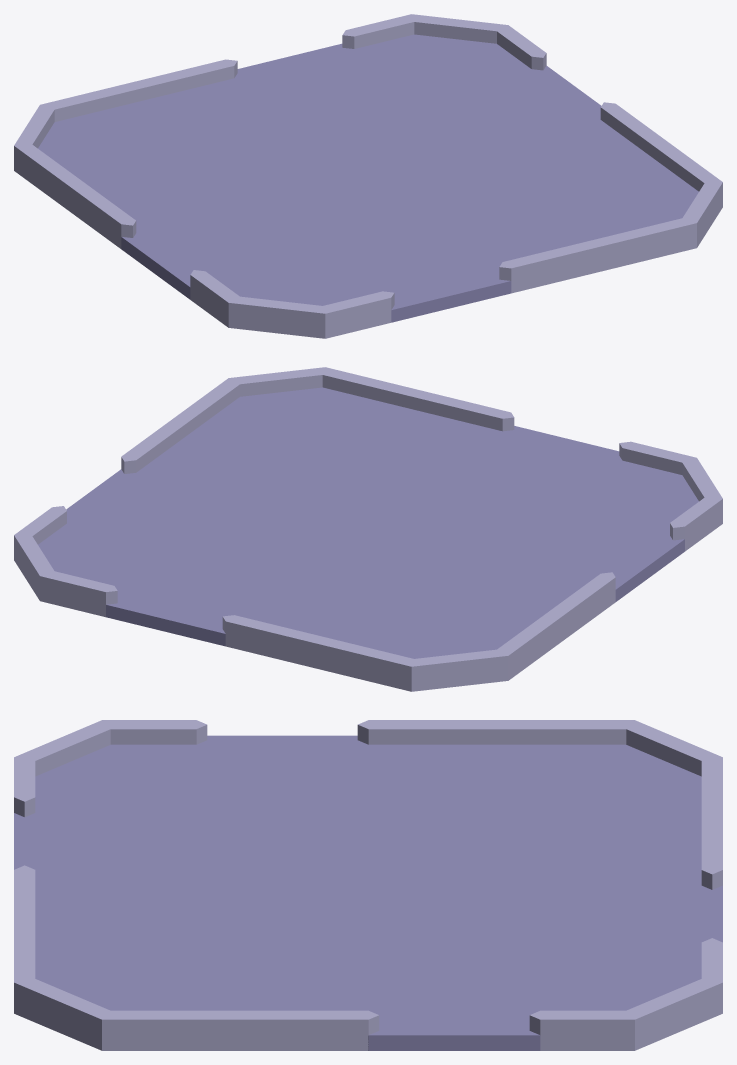
The model's file is hub2.fbx.
3 renders of one model, top to bottom at view 1: azimuth 30°, elevation 25°; view 2: azimuth 150°, elevation 25°; view 3: azimuth 270°, elevation 25°, orthographic. The views are drawn at different scales.
Parts seen in each view (by area): view 1: mergedBlocks; view 2: mergedBlocks; view 3: mergedBlocks.
Part boxes in pixels (bbox=[...]): mergedBlocks: bbox=[14, 14, 722, 338]; mergedBlocks: bbox=[14, 367, 722, 691]; mergedBlocks: bbox=[14, 720, 722, 1050].
Bounding box in the file's own units: 41.25 × 2 × 41.25.
